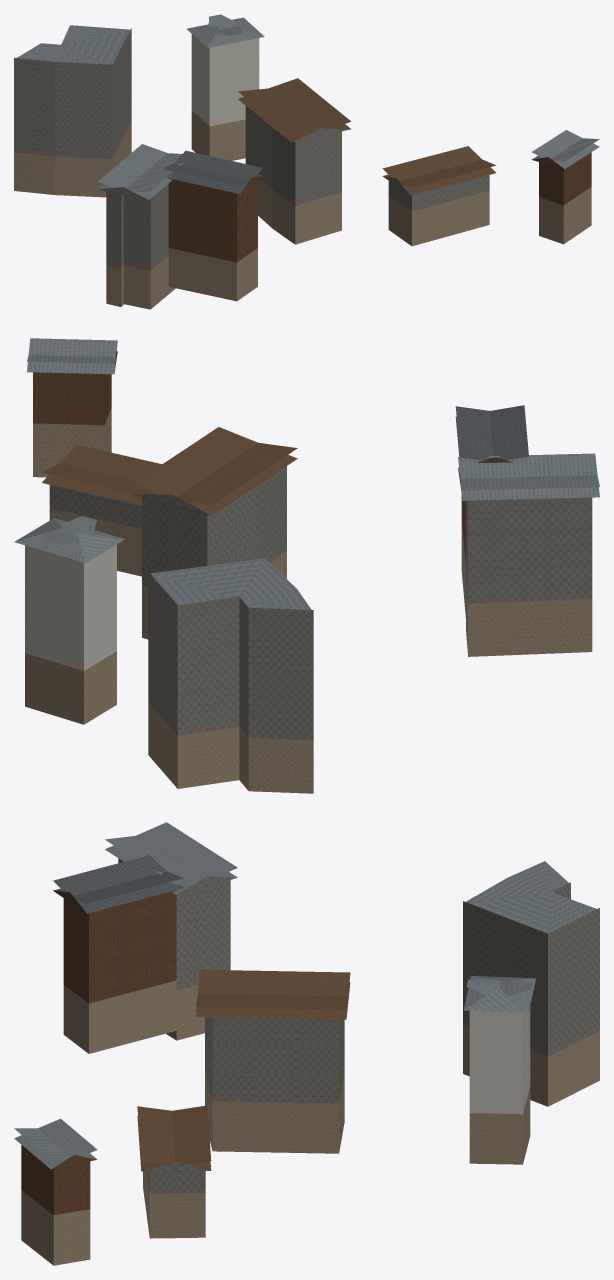
File: bld_c10_19_430.gltf
The picture shows the model from 3 angles, top to bottom: view 1: azimuth 30°, elevation 25°; view 2: azimuth 150°, elevation 25°; view 3: azimuth 270°, elevation 25°; orthographic projection. The views are drawn at different scales.
Parts seen in each view (by area): view 1: bld_c10_19_430; view 2: bld_c10_19_430; view 3: bld_c10_19_430.
Part boxes in pixels (left/top/right/bottom): bld_c10_19_430: left=14, top=14, right=599, bottom=309; bld_c10_19_430: left=14, top=338, right=599, bottom=793; bld_c10_19_430: left=14, top=822, right=599, bottom=1265.
Bounding box in the file's own units: 62.88 × 17.8 × 53.69.
9 materials, 9 textured.
